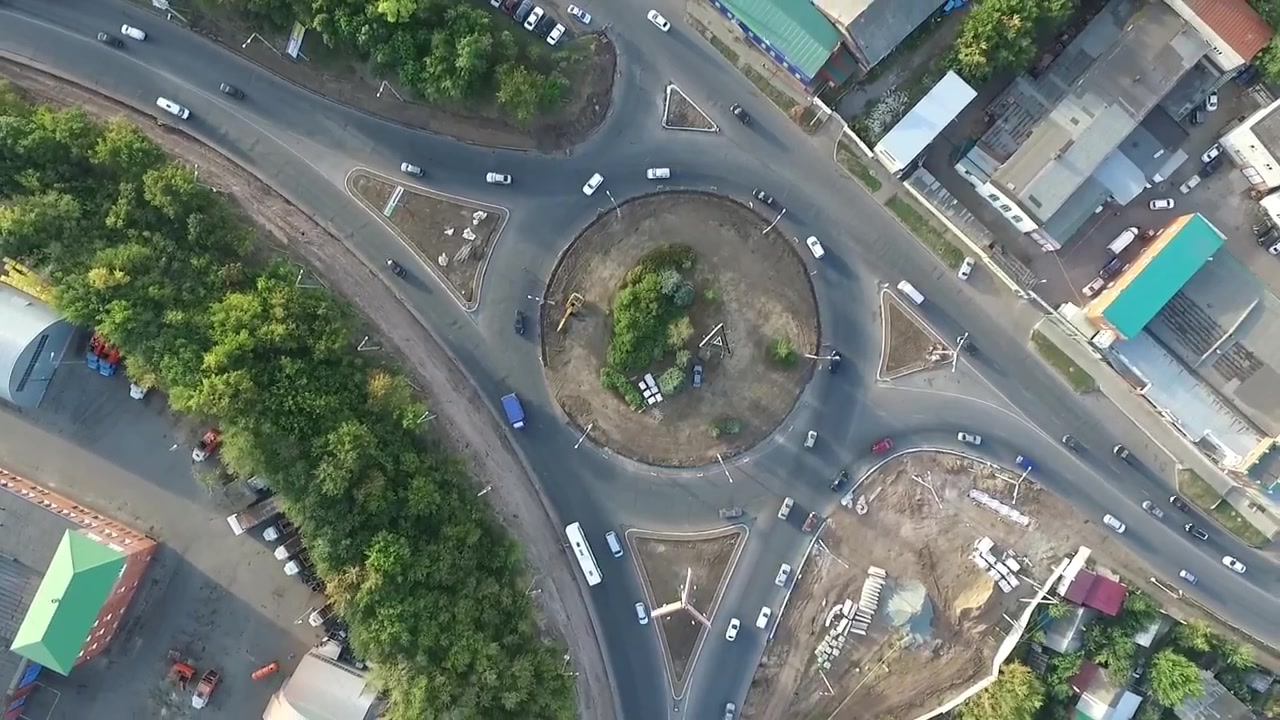car: (562, 519, 605, 587), (189, 426, 225, 463), (1102, 225, 1141, 259), (499, 391, 527, 431), (84, 329, 109, 371), (97, 338, 123, 377), (154, 96, 192, 121), (895, 277, 927, 306), (126, 373, 158, 401), (646, 8, 672, 33), (1219, 555, 1249, 576), (581, 171, 605, 197), (728, 101, 752, 127), (1183, 520, 1210, 543), (604, 529, 624, 559), (1101, 512, 1127, 535), (1140, 499, 1167, 521), (564, 4, 592, 25), (955, 333, 978, 358), (805, 234, 827, 260), (1112, 443, 1138, 465), (828, 468, 851, 492), (1099, 256, 1122, 280), (868, 437, 895, 457), (524, 5, 544, 32), (120, 24, 148, 43), (957, 254, 976, 282), (1178, 172, 1201, 195), (512, 1, 535, 24), (385, 256, 407, 280), (1081, 276, 1105, 298), (95, 31, 124, 49), (776, 494, 795, 521), (218, 81, 245, 100), (1146, 195, 1176, 212), (800, 511, 821, 535), (536, 15, 557, 39), (1060, 434, 1085, 454), (546, 21, 566, 46), (754, 604, 772, 631), (1201, 142, 1224, 163), (773, 562, 792, 587), (1236, 64, 1257, 86), (1200, 157, 1223, 177), (1168, 493, 1191, 513), (398, 161, 425, 178), (1014, 454, 1038, 473), (723, 617, 741, 642), (957, 430, 982, 448), (483, 171, 514, 185), (717, 506, 744, 522), (751, 188, 775, 206), (1177, 567, 1200, 585), (645, 166, 672, 181), (634, 601, 650, 626), (512, 308, 526, 336), (828, 348, 842, 376), (801, 429, 819, 450), (722, 700, 739, 720), (1205, 87, 1218, 113), (1191, 104, 1205, 126), (691, 364, 703, 388), (1266, 236, 1280, 256), (501, 1, 520, 15), (489, 1, 502, 9)
